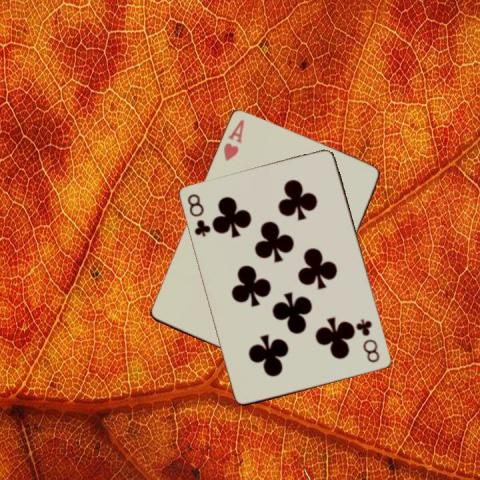8c: (184, 191, 212, 238), (355, 316, 381, 365)
Ah: (220, 117, 246, 162)
